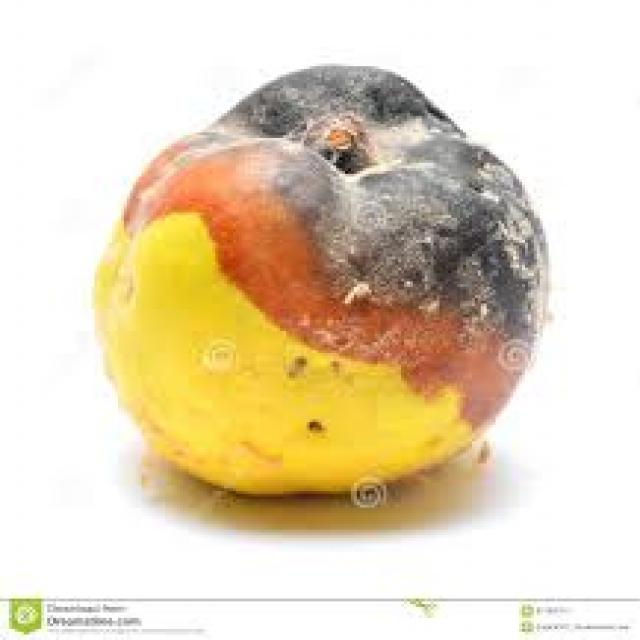organic waste: (91, 61, 542, 497)
